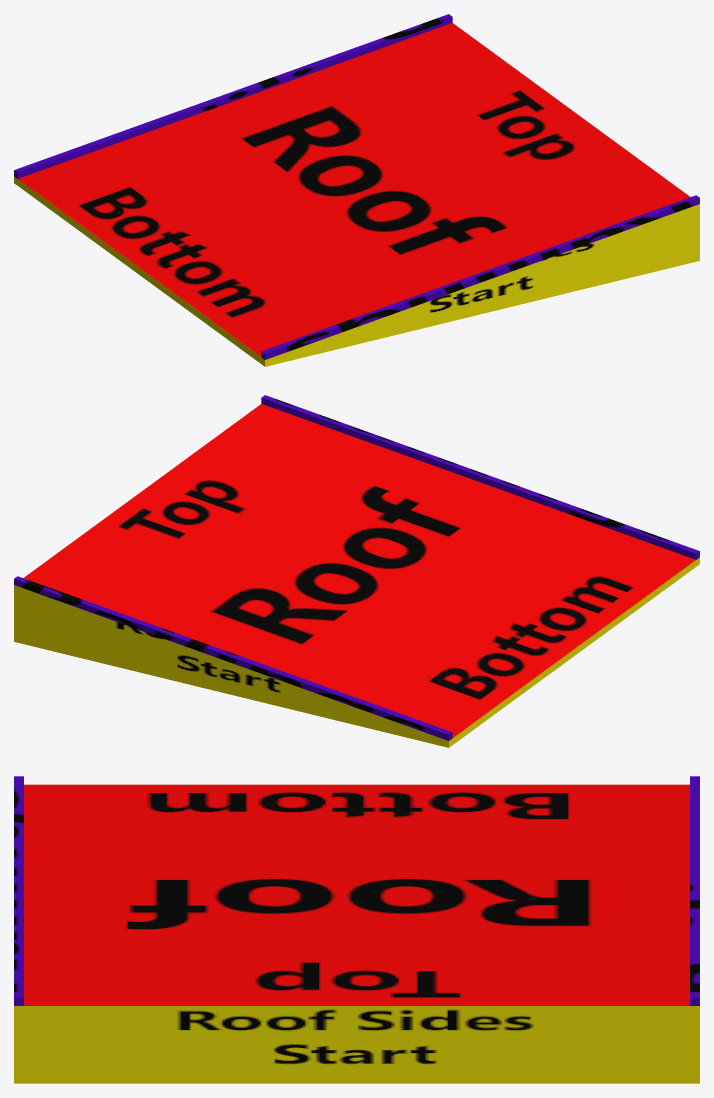
The model's file is ENV_Roof_TwoXTwo_TypeTwo.fbx.
3 renders of one model, top to bottom at view 1: azimuth 30°, elevation 25°; view 2: azimuth 150°, elevation 25°; view 3: azimuth 270°, elevation 25°, orthographic. The views are drawn at different scales.
Visible parts, largest first — view 1: TwoXTwoRoofTwo; view 2: TwoXTwoRoofTwo; view 3: TwoXTwoRoofTwo.
Part boxes in pixels (box(x1,y1,x2,y2)): TwoXTwoRoofTwo: box(14, 14, 699, 366); TwoXTwoRoofTwo: box(14, 395, 699, 747); TwoXTwoRoofTwo: box(14, 776, 699, 1083).
Size of the model in its own units: 24 by 3.32 by 24.
